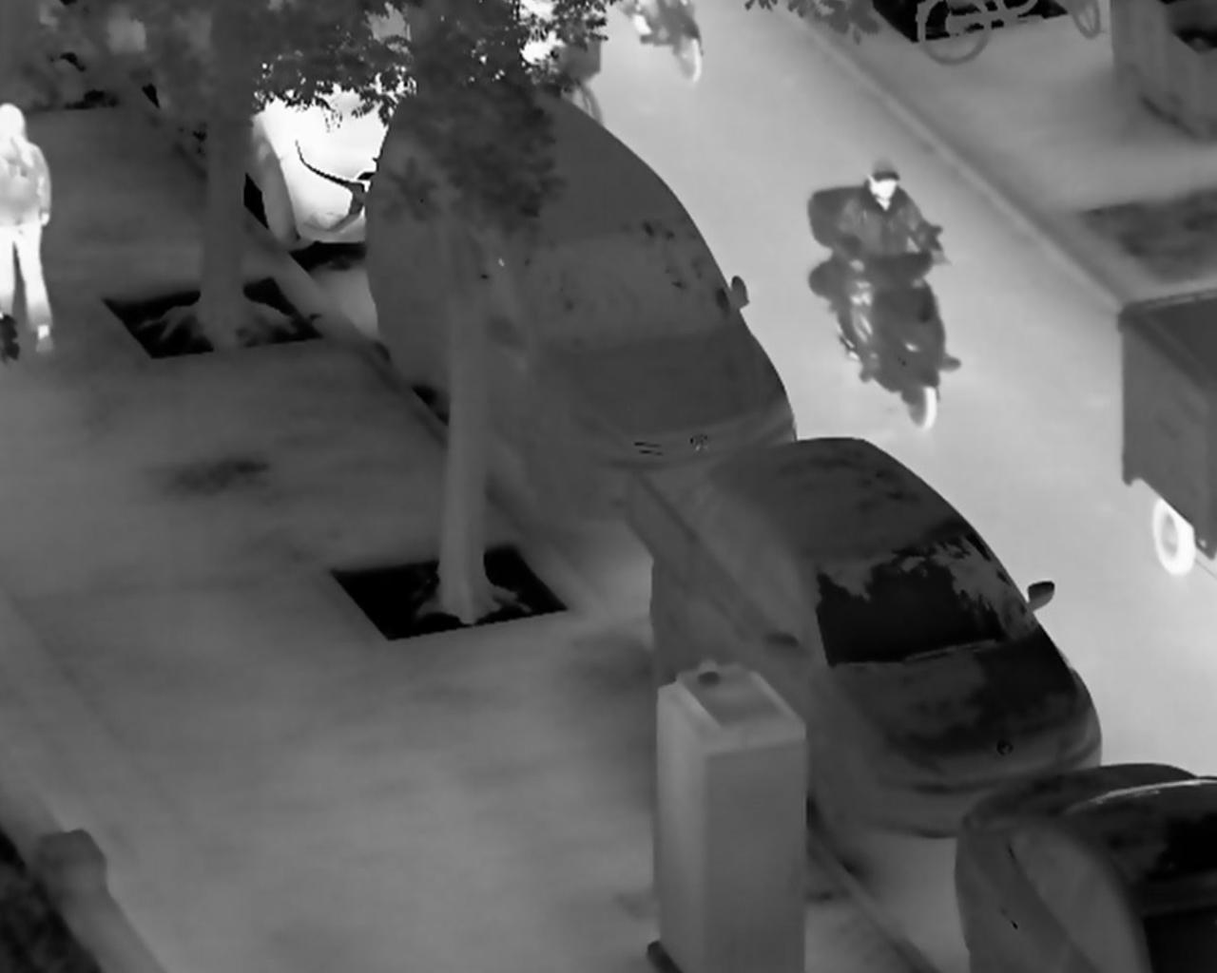person: (835, 157, 950, 386)
